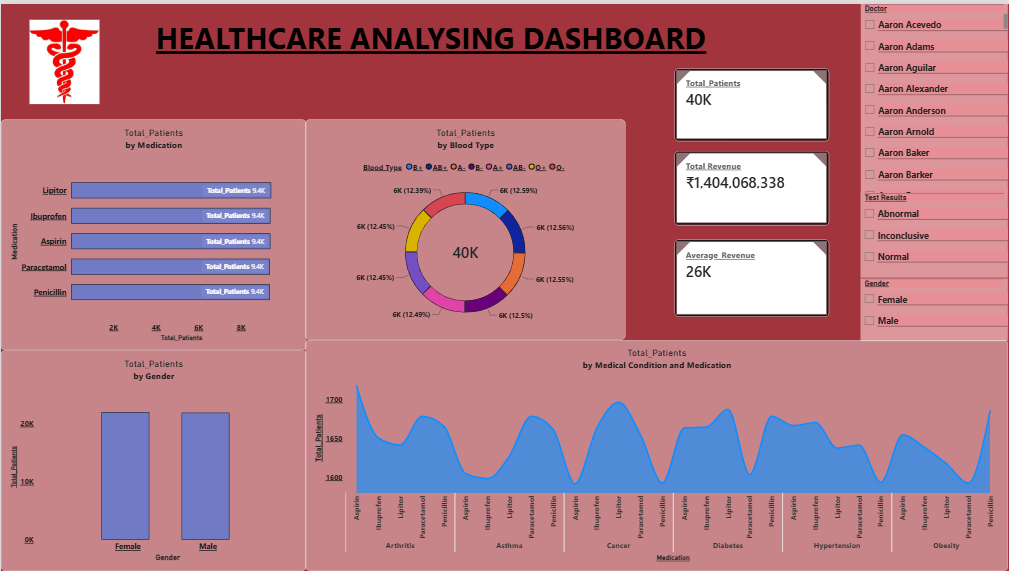

Layout of this report page (visuals, bound fields, positions):
{"tool":"powerbi","page":{"name":"Page 1","canvas":[1920,1080],"ordinal":0},"visuals":[{"type":"textbox","box":[10,0,280,280],"z":0},{"type":"textbox","box":[0,25.5,1638.4,96.4],"z":1000},{"type":"cardVisual","fields":{"Data":["1healthcare_dashboard.Total_Revenue"]},"box":[1284.1,280.6,294.8,141.7],"z":2000},{"type":"cardVisual","fields":{"Data":["1healthcare_dashboard.Total_Patients"]},"box":[1284.1,121.9,294.8,138.9],"z":3000},{"type":"cardVisual","fields":{"Data":["1healthcare_dashboard.Average_Revenue"]},"box":[1284.1,447.9,294.8,147.4],"z":4000},{"type":"columnChart","fields":{"Category":["1healthcare_dashboard.Gender"],"Y":["1healthcare_dashboard.Total_Patients"]},"box":[0,660.5,581.1,419.5],"z":5000},{"type":"slicer","fields":{"Values":["1healthcare_dashboard.Doctor"]},"box":[1638.4,0,280.6,360],"z":6000},{"type":"slicer","fields":{"Values":["1healthcare_dashboard.Gender"]},"box":[1638.4,521.6,280.6,119.1],"z":7000},{"type":"slicer","fields":{"Values":["1healthcare_dashboard.Test Results"]},"box":[1638.4,360,280.6,161.6],"z":8000},{"type":"clusteredBarChart","fields":{"Category":["1healthcare_dashboard.Medication"],"Y":["1healthcare_dashboard.Total_Patients"]},"box":[0,221.1,581.1,439.4],"z":9000},{"type":"stackedAreaChart","fields":{"Category":["1healthcare_dashboard.Medical Condition","1healthcare_dashboard.Medication"],"Y":["1healthcare_dashboard.Total_Patients"]},"box":[581.1,640.6,1338,439.4],"z":10000},{"type":"donutChart","fields":{"Category":["1healthcare_dashboard.Blood Type"],"Y":["1healthcare_dashboard.Total_Patients"]},"box":[581.1,221.1,609.5,419.5],"z":11000},{"type":"image","box":[53.9,0,133.2,221.1],"z":12000}]}

Visuals, with their boxes in screenshot pixels (x1, y1, x2, y2), scaled from the page's 1920x1080 canvas onto the 1009x571 screenshot:
textbox: detection(5, 0, 152, 148)
textbox: detection(0, 13, 861, 64)
cardVisual - 1healthcare_dashboard.Total_Revenue: detection(675, 148, 830, 223)
cardVisual - 1healthcare_dashboard.Total_Patients: detection(675, 64, 830, 138)
cardVisual - 1healthcare_dashboard.Average_Revenue: detection(675, 237, 830, 315)
columnChart - 1healthcare_dashboard.Gender x 1healthcare_dashboard.Total_Patients: detection(0, 349, 305, 570)
slicer - 1healthcare_dashboard.Doctor: detection(861, 0, 1008, 190)
slicer - 1healthcare_dashboard.Gender: detection(861, 276, 1008, 339)
slicer - 1healthcare_dashboard.Test Results: detection(861, 190, 1008, 276)
clusteredBarChart - 1healthcare_dashboard.Medication x 1healthcare_dashboard.Total_Patients: detection(0, 117, 305, 349)
stackedAreaChart - 1healthcare_dashboard.Medical Condition x 1healthcare_dashboard.Medication: detection(305, 339, 1008, 570)
donutChart - 1healthcare_dashboard.Blood Type x 1healthcare_dashboard.Total_Patients: detection(305, 117, 626, 339)
image: detection(28, 0, 98, 117)
